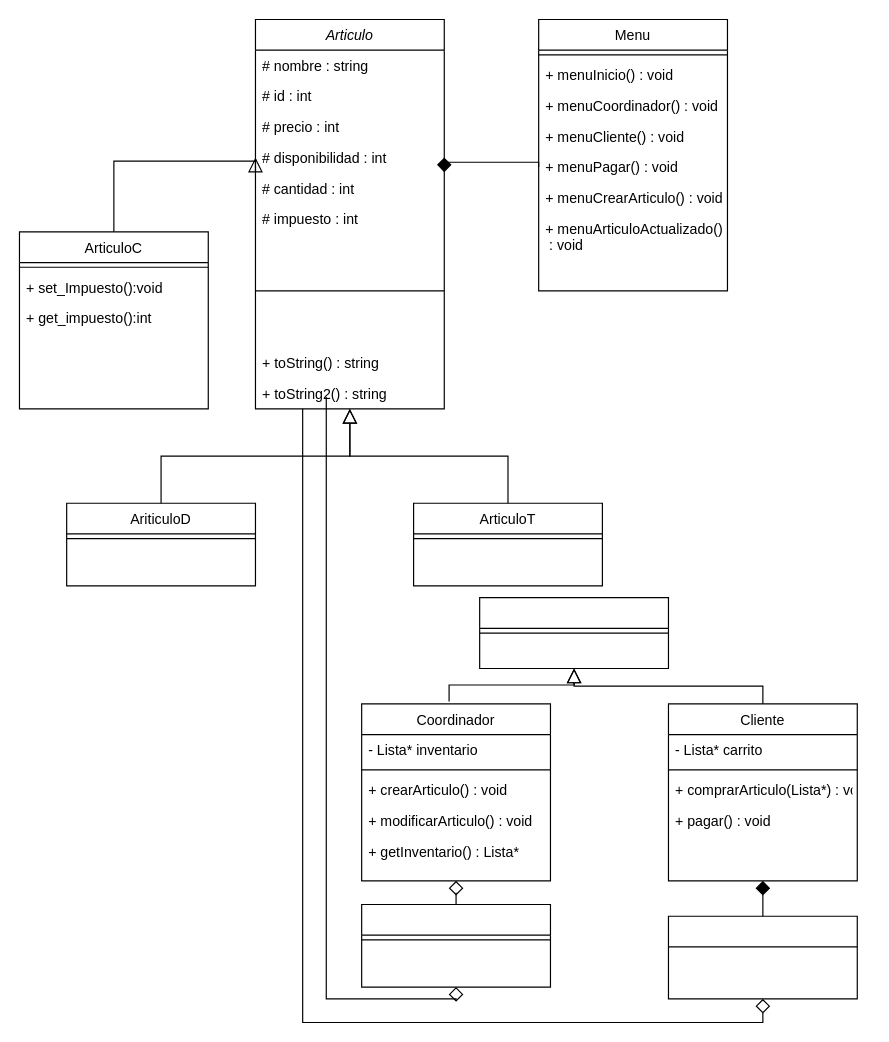
Image size: 889x1042. Some labels were removed from this diagram. Each missing label, with the centre of its shape:
Carrito: the point at 762,957
Inventario: the point at 455,945
Usuario: the point at 573,632
